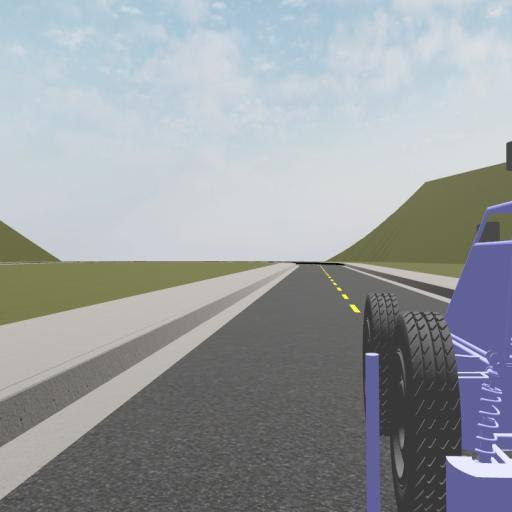ERP-42: (359, 160, 511, 508)
